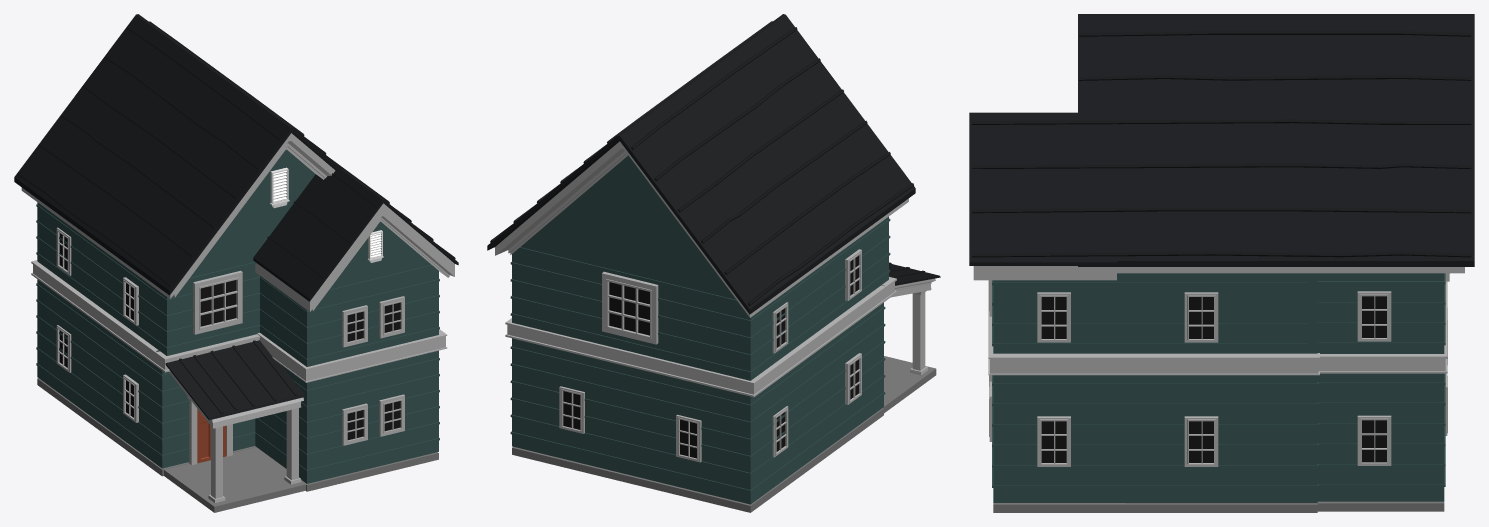
Rendered from SM_house_suburb_001.fbx.
3 renders of one model, left to right at view 1: azimuth 30°, elevation 25°; view 2: azimuth 150°, elevation 25°; view 3: azimuth 270°, elevation 25°, orthographic. The views are drawn at different scales.
Parts seen in each view (by area): view 1: Box5757; view 2: Box5757; view 3: Box5757.
Boxes of the visible parts, box(x1,y1,x2,y2) form: Box5757: box(14, 14, 458, 512); Box5757: box(487, 14, 940, 512); Box5757: box(969, 14, 1474, 512).
Size of the model in its own units: 324 by 421 by 451.
